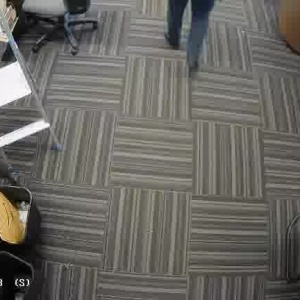person: (169, 0, 226, 65)
